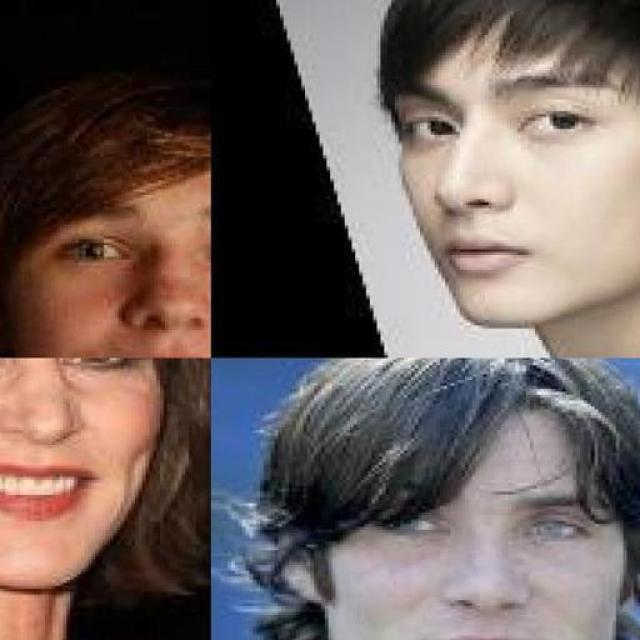bareface: (355, 1, 640, 328)
